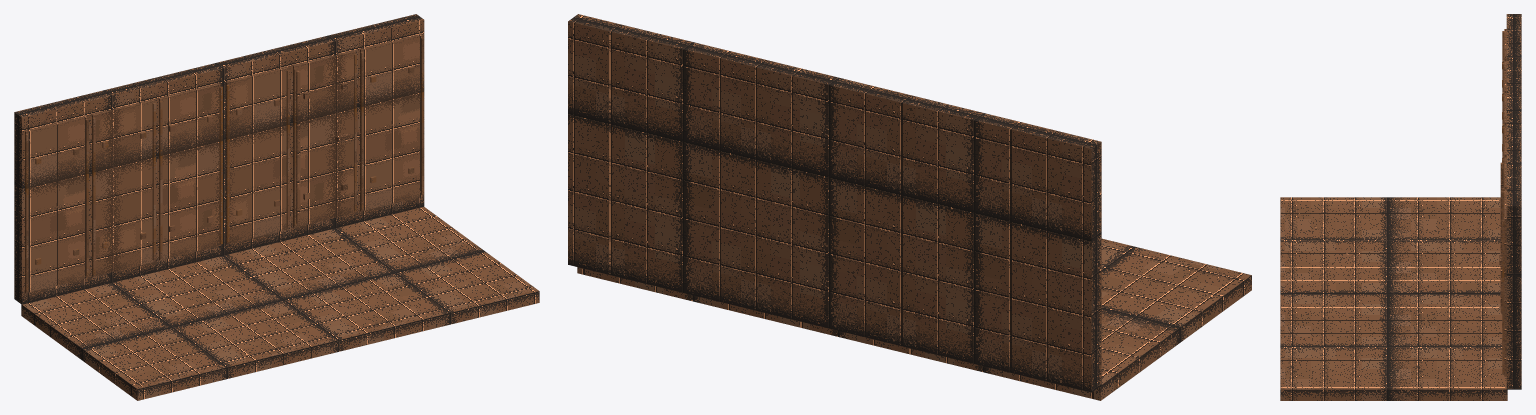
File: secret_service_access.glb
3 renders of one model, left to right at view 1: azimuth 30°, elevation 25°; view 2: azimuth 150°, elevation 25°; view 3: azimuth 270°, elevation 25°, orthographic. The views are drawn at different scales.
Parts seen in each view (by area): view 1: secret_service_access; view 2: secret_service_access; view 3: secret_service_access.
Part boxes in pixels (<box>): secret_service_access: <box>14,14,539,400</box>; secret_service_access: <box>568,14,1251,400</box>; secret_service_access: <box>1280,14,1521,400</box>.
Size of the model in its own units: 7.2 by 3.4 by 3.82.
4 materials, 4 textured.
